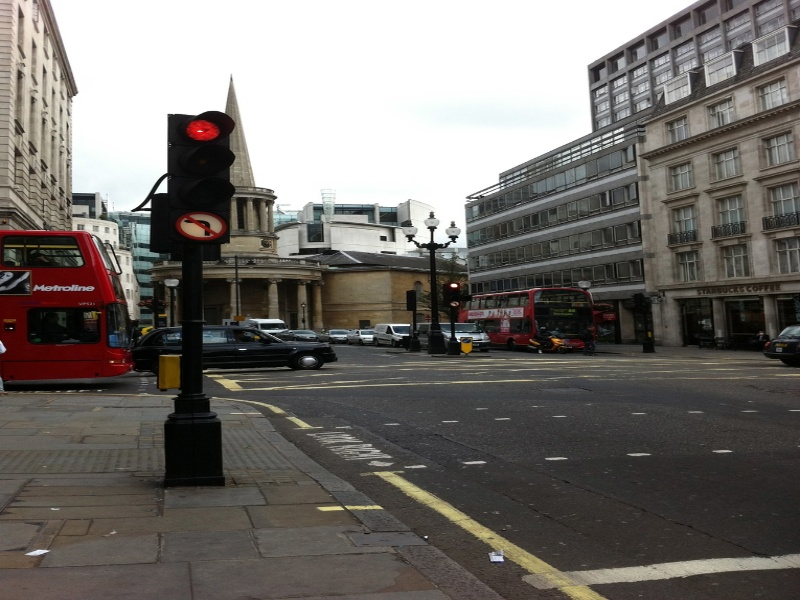no_left_turn: (173, 205, 230, 245)
red_light: (179, 107, 241, 148)
